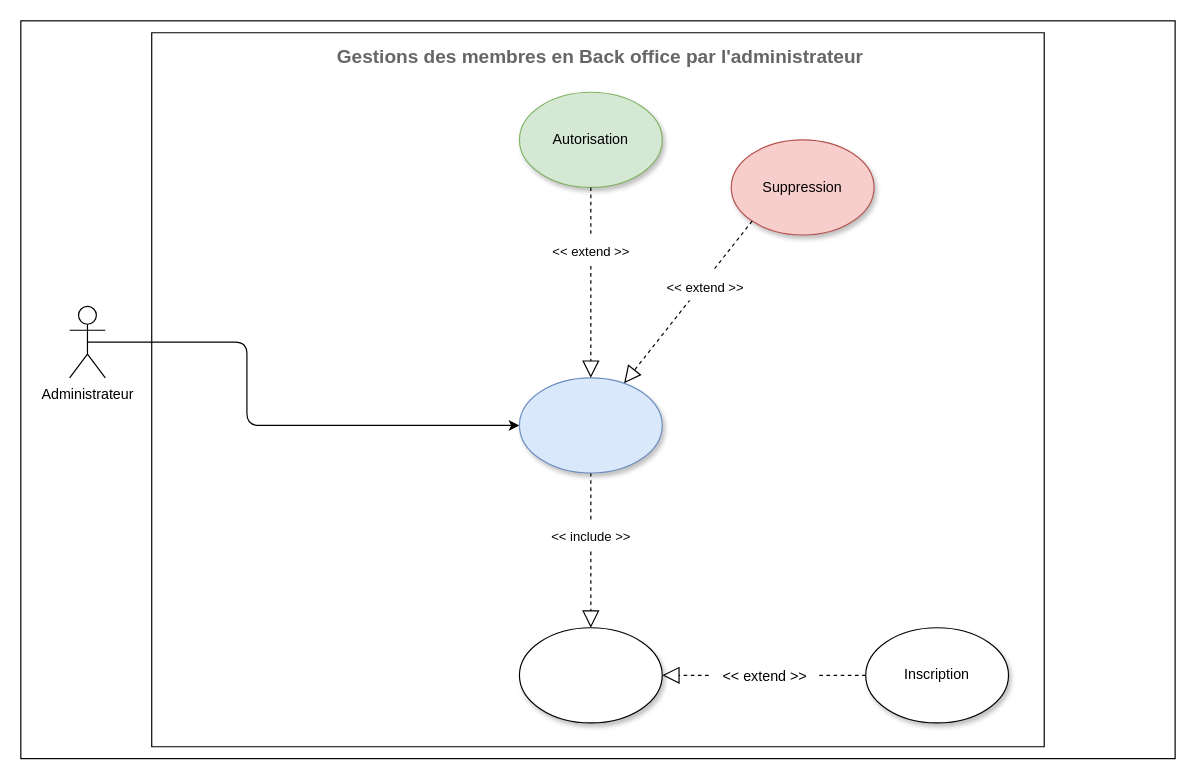
The diagram is 1196 pixels wide and 779 high, and some of its shapes have lost their labels. Each missing label, with the centre of its shape:
Authentification: (591,676)
Gestion membres: (591,426)
